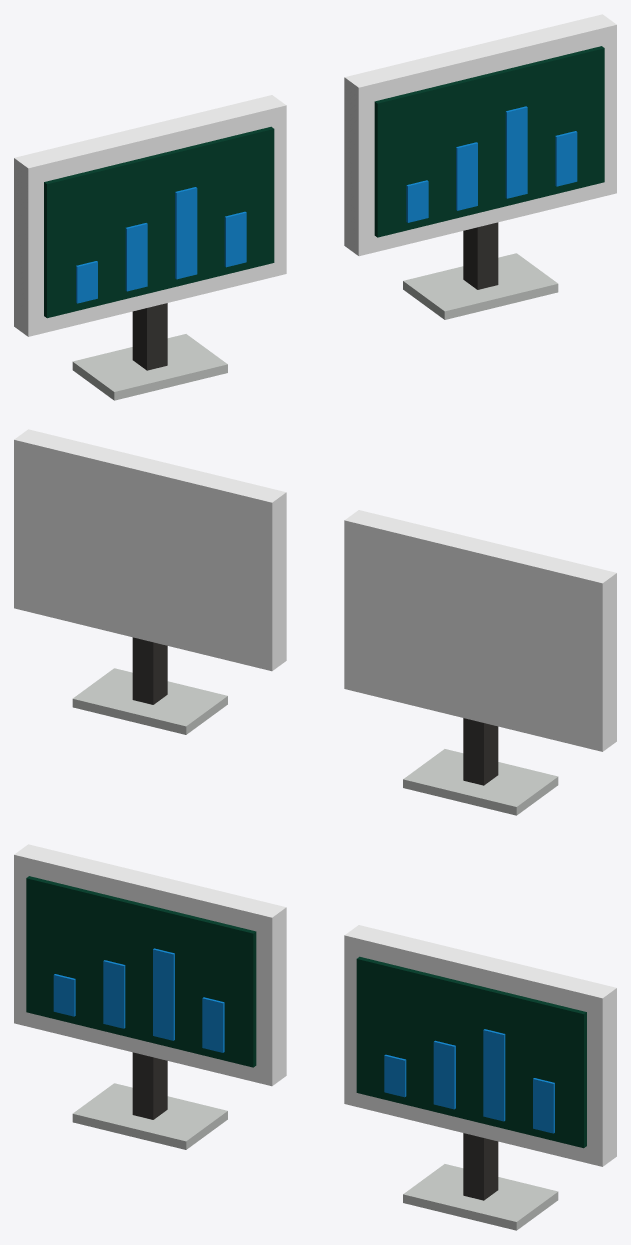
File: D1_pit_wall_screens.glb
3 renders of one model, top to bottom at view 1: azimuth 30°, elevation 25°; view 2: azimuth 150°, elevation 25°; view 3: azimuth 330°, elevation 25°, orthographic.
Visible parts, largest first — view 1: instance_darkgreen, instance_white, instance_blue, instance_stone, instance_ink; view 2: instance_white, instance_stone, instance_ink; view 3: instance_darkgreen, instance_white, instance_blue, instance_stone, instance_ink.
Part boxes in pixels (box(x1,y1,x2,y2)): instance_darkgreen: box(44, 46, 604, 318); instance_white: box(14, 14, 616, 336); instance_blue: box(76, 106, 577, 303); instance_stone: box(72, 253, 558, 400); instance_ink: box(132, 222, 498, 370); instance_white: box(14, 429, 616, 751); instance_stone: box(72, 668, 558, 815); instance_ink: box(132, 637, 498, 785); instance_darkgreen: box(26, 876, 586, 1148); instance_white: box(14, 844, 616, 1166); instance_blue: box(53, 948, 554, 1133); instance_stone: box(72, 1083, 558, 1230); instance_ink: box(132, 1052, 498, 1200).
Size of the model in its own units: 2.85 by 1.11 by 0.35.
